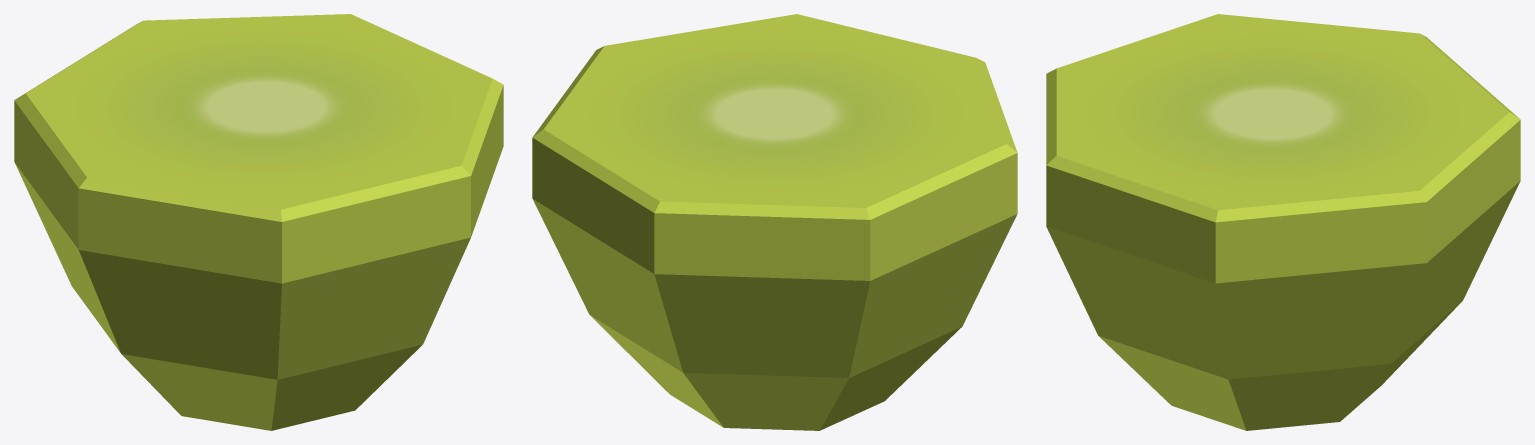
File: cut_muscat.fbx
3 views of the same model, side by side, from view 1: azimuth 30°, elevation 25°; view 2: azimuth 150°, elevation 25°; view 3: azimuth 270°, elevation 25° (orthographic).
Visible parts, largest first — view 1: 円.002; view 2: 円.002; view 3: 円.002.
Boxes of the visible parts, x1,y1,x2,y2 form: 円.002: [14, 14, 503, 430]; 円.002: [532, 14, 1017, 430]; 円.002: [1046, 14, 1520, 430].
Bounding box in the file's own units: 4.87 × 3.19 × 4.75.
